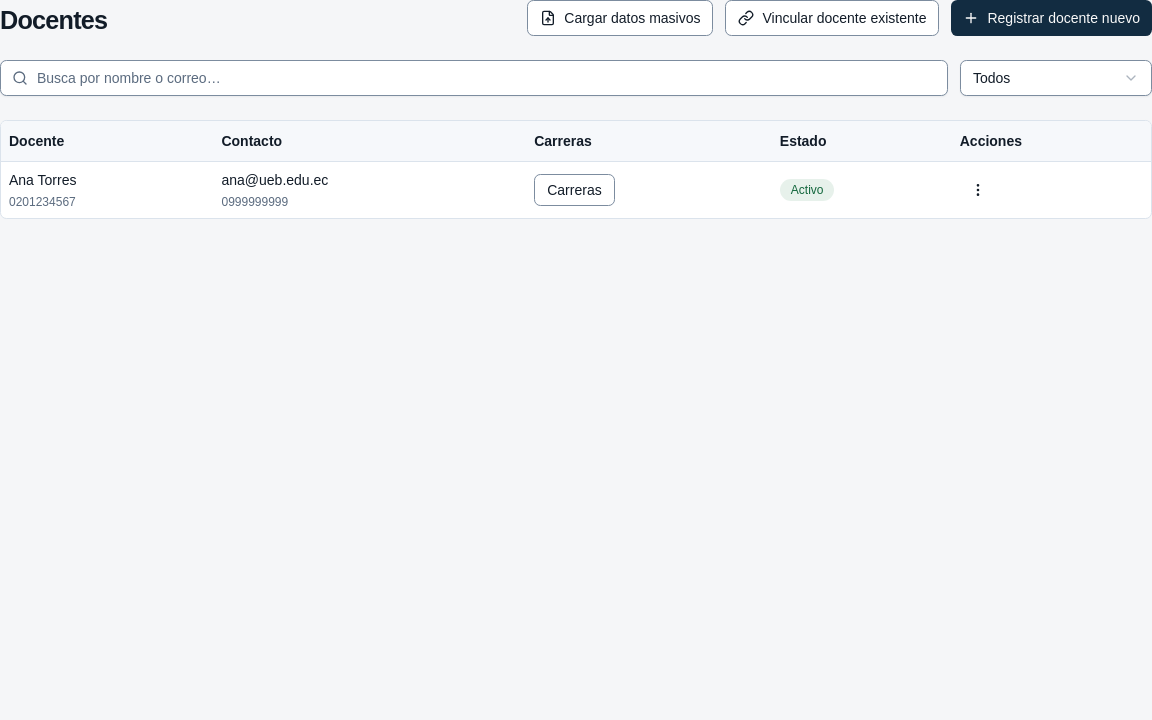
it: Coordinación de tutorías › abre un modal con las carreras al hacer clic en el botón Carreras de la columna en Docentes
Check: the text "Ana Torres" is shown, box [9,172,76,188]
Click the button with aria-label "Ver carreras de Ana Torres".
click(574, 190)  # box [534,174,615,206]
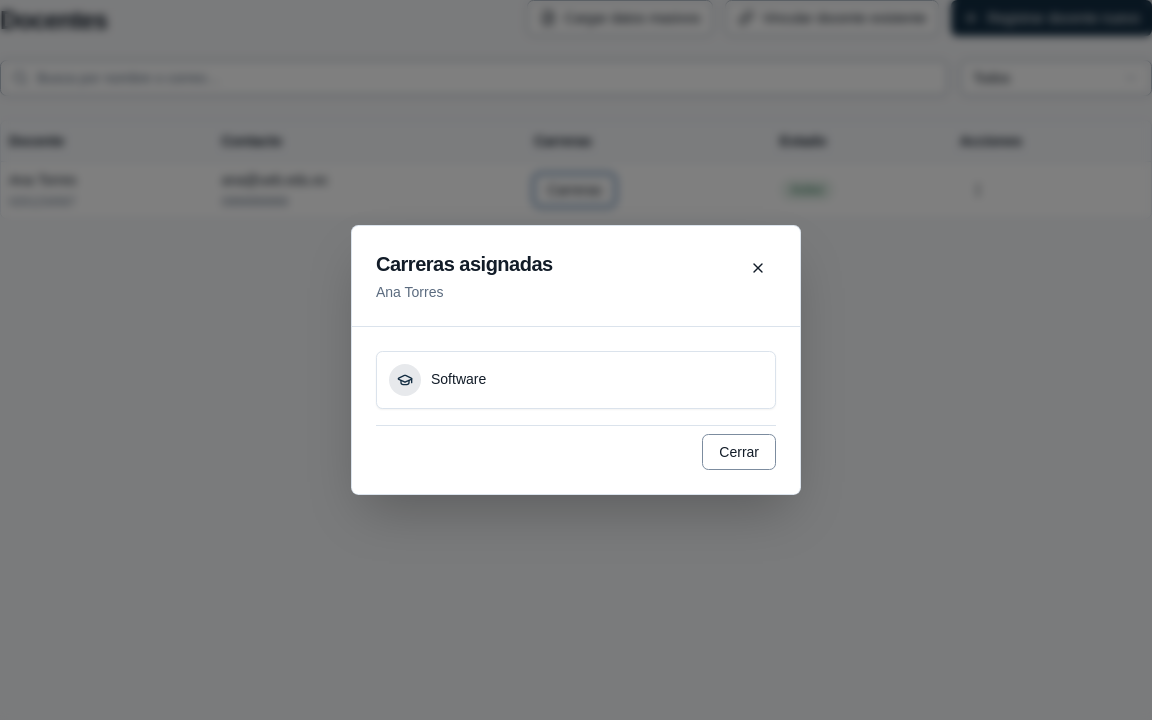
Check: the heading "Carreras asignadas" is shown, box [376,250,553,278]
Check: the text "Software" is shown, box [431,370,486,390]
Click the button "Cerrar".
click(739, 452)  # box [702,434,776,470]
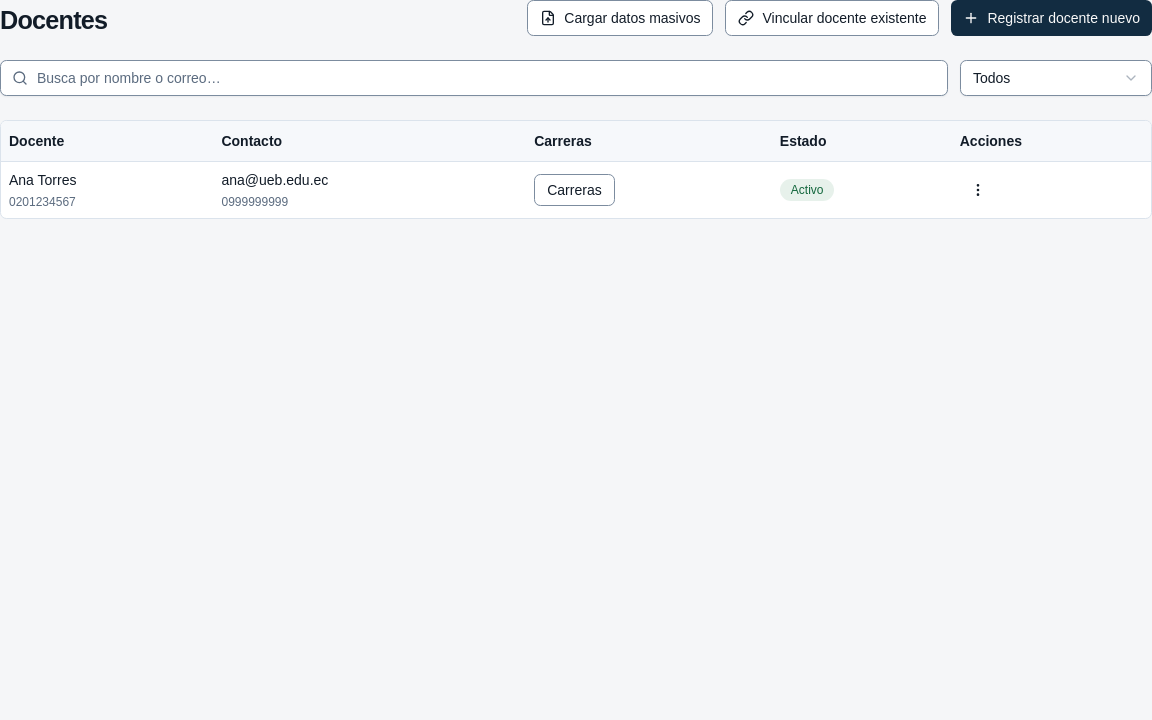
Check: the dialog is gone
